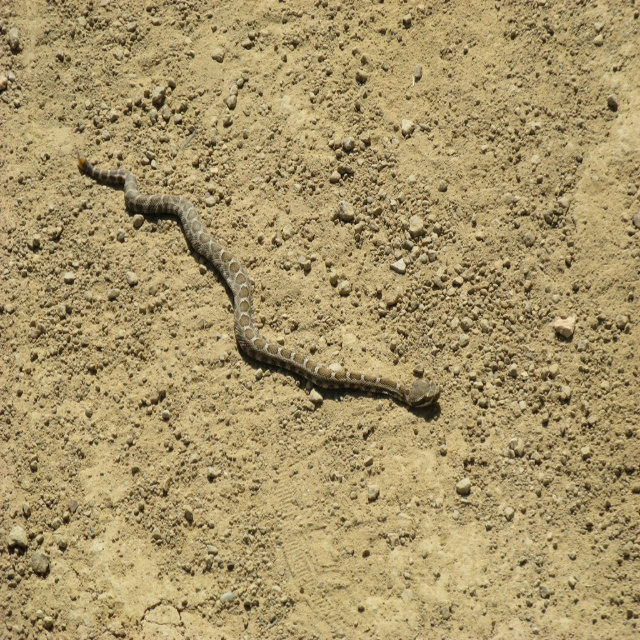Snake: (75, 150, 441, 410)
